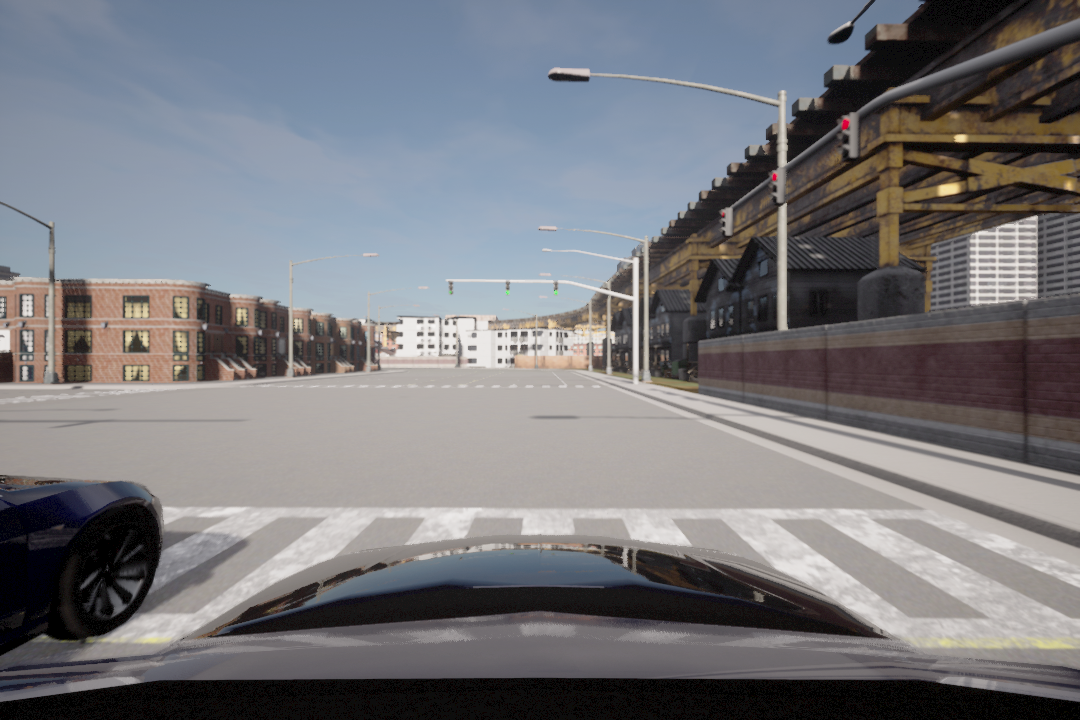TrafficLight: (837, 114, 861, 167), (713, 207, 738, 240), (767, 171, 786, 207), (444, 278, 455, 297), (504, 281, 514, 297), (551, 281, 561, 297)
walkside: (7, 484, 1074, 655)
